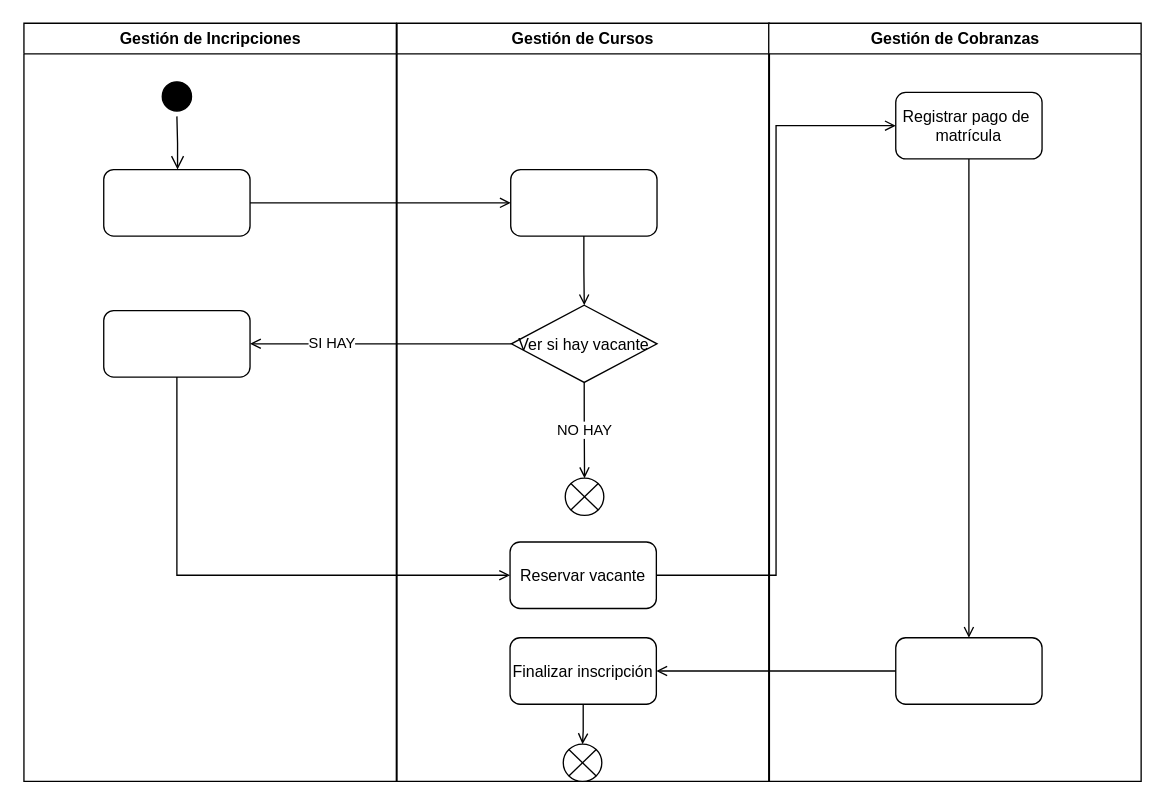
Image size: 1164x805. Some labels were removed from this diagram. The shapes that lost their labels are listed below. From the top down, each one's centre as x and y in pixels, then its label:
point 176,202: Solicitar inscripción a un curso
point 583,202: Verificar si hay vacante disponible
point 176,343: Registrar datos del cliente
point 968,670: Emitir factura
